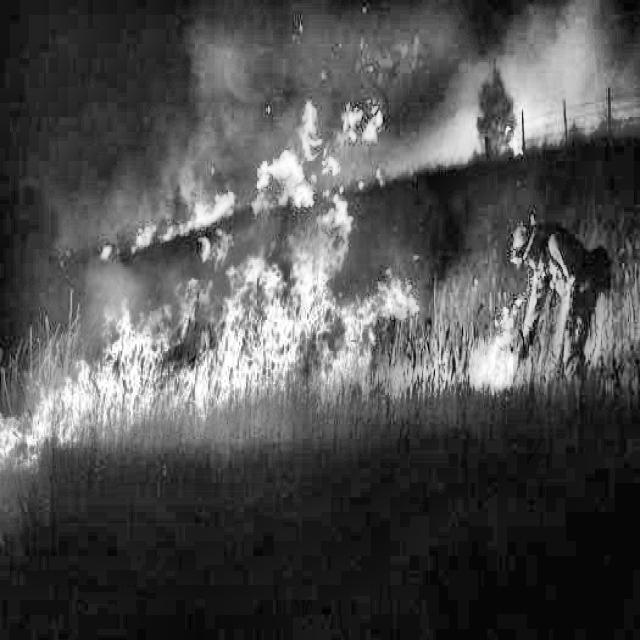fire: (0, 86, 579, 549)
